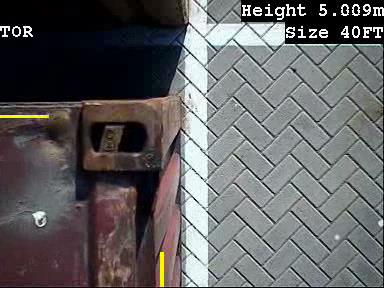groundmarker_2: (149, 132, 196, 164)
